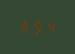four: (43, 20, 54, 34)
nine: (31, 19, 42, 34), (18, 19, 29, 33)
